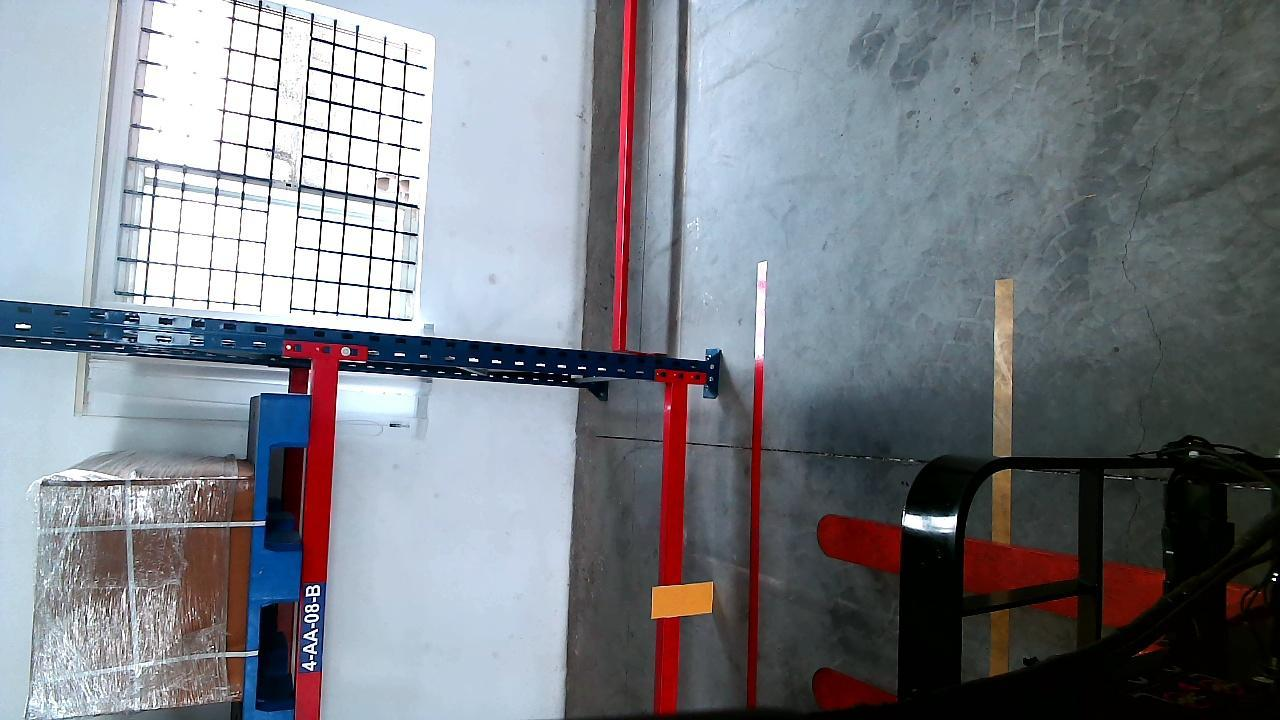red_line: (746, 261, 767, 707)
yellow_line: (990, 271, 1013, 619)
